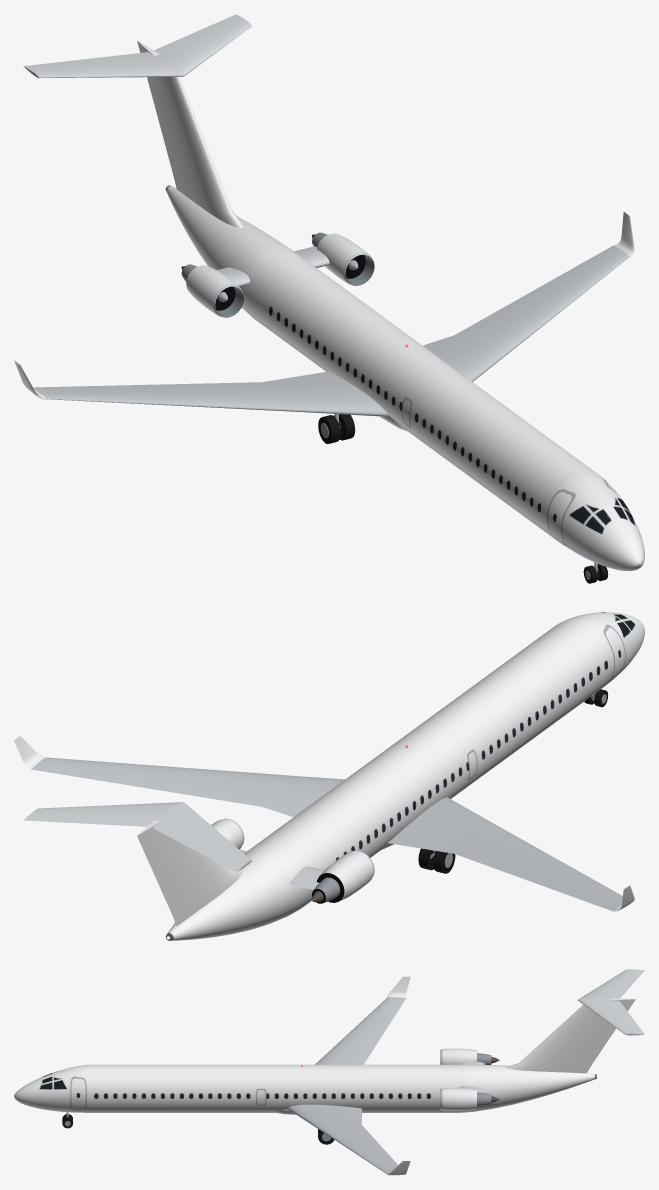
Rendered from crj7.glb.
3 renders of one model, top to bottom at view 1: azimuth 30°, elevation 25°; view 2: azimuth 150°, elevation 25°; view 3: azimuth 270°, elevation 25°, orthographic. The views are drawn at different scales.
Parts seen in each view (by area): view 1: body, gear; view 2: body, gear; view 3: body.
Part boxes in pixels (<box>): body: <box>14,14,644,570</box>; gear: <box>318,414,608,583</box>; body: <box>14,612,644,940</box>; gear: <box>418,689,608,873</box>; body: <box>14,969,644,1175</box>.
Size of the model in its own units: 24.36 by 7.88 by 35.22.
Materials: 19 (1 with a texture image).
